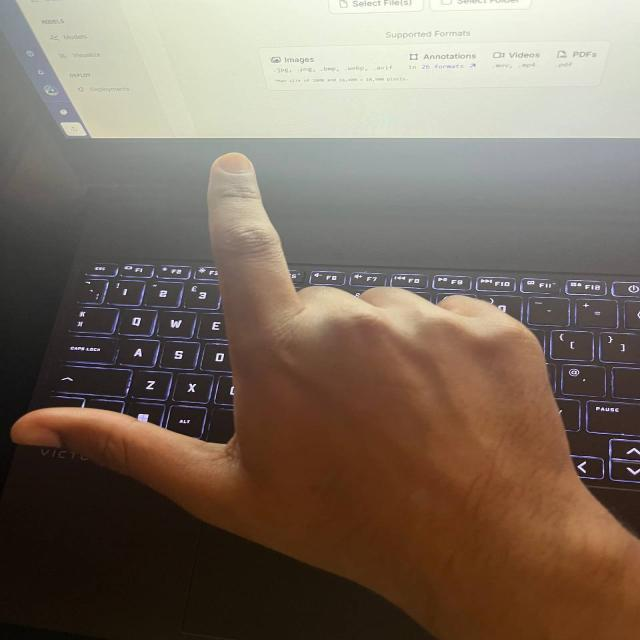hand thumb and index out: (15, 151, 597, 589)
